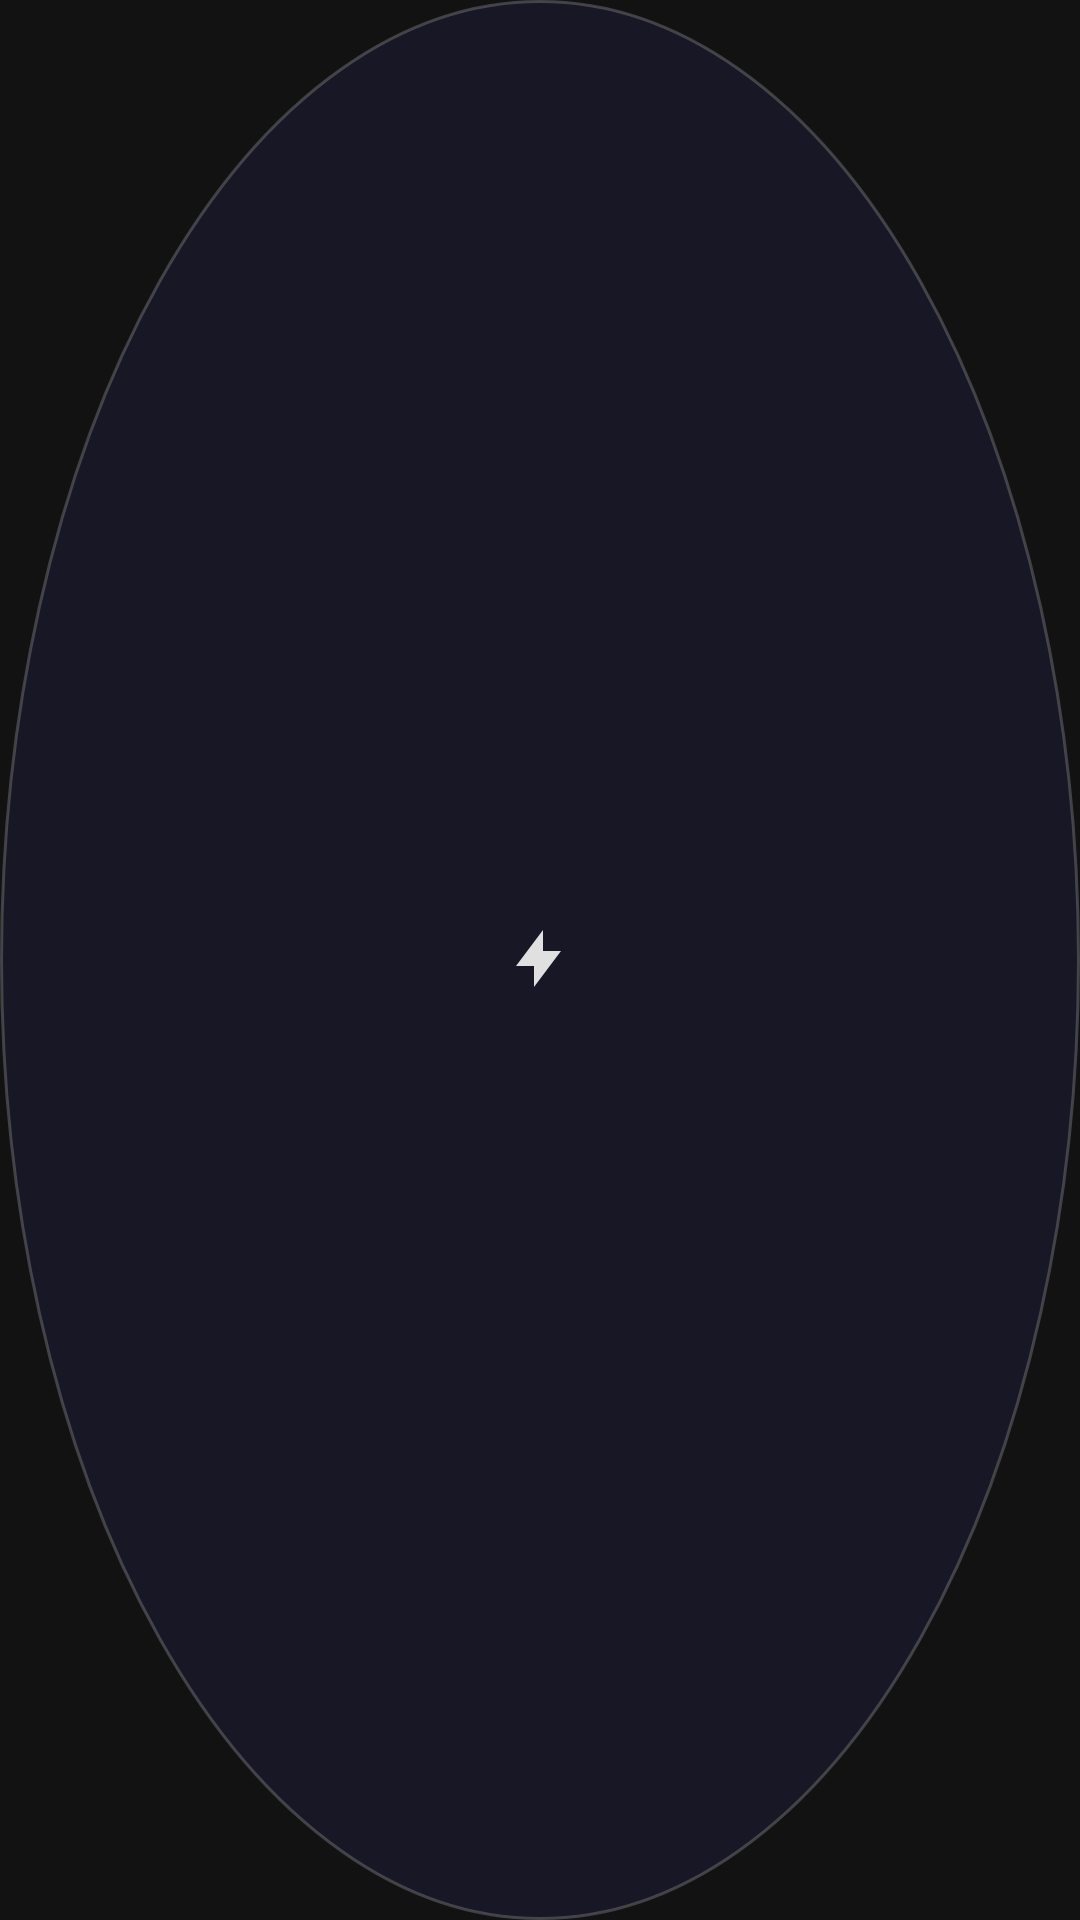

Icons on this 1080×1920 Android screen, each with its box as (x1, y1, x2, y2):
闪电记悬浮球: (516, 930, 561, 987)
